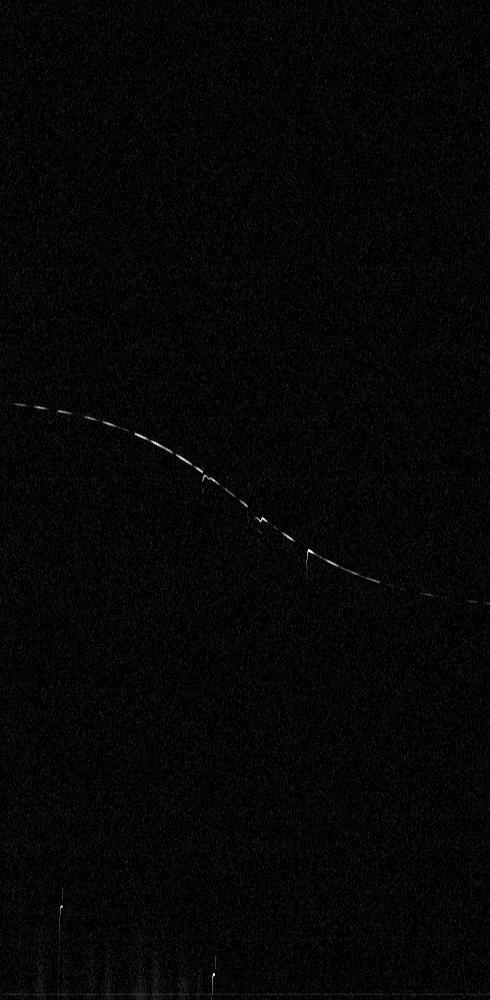signal: (0, 0, 489, 999)
